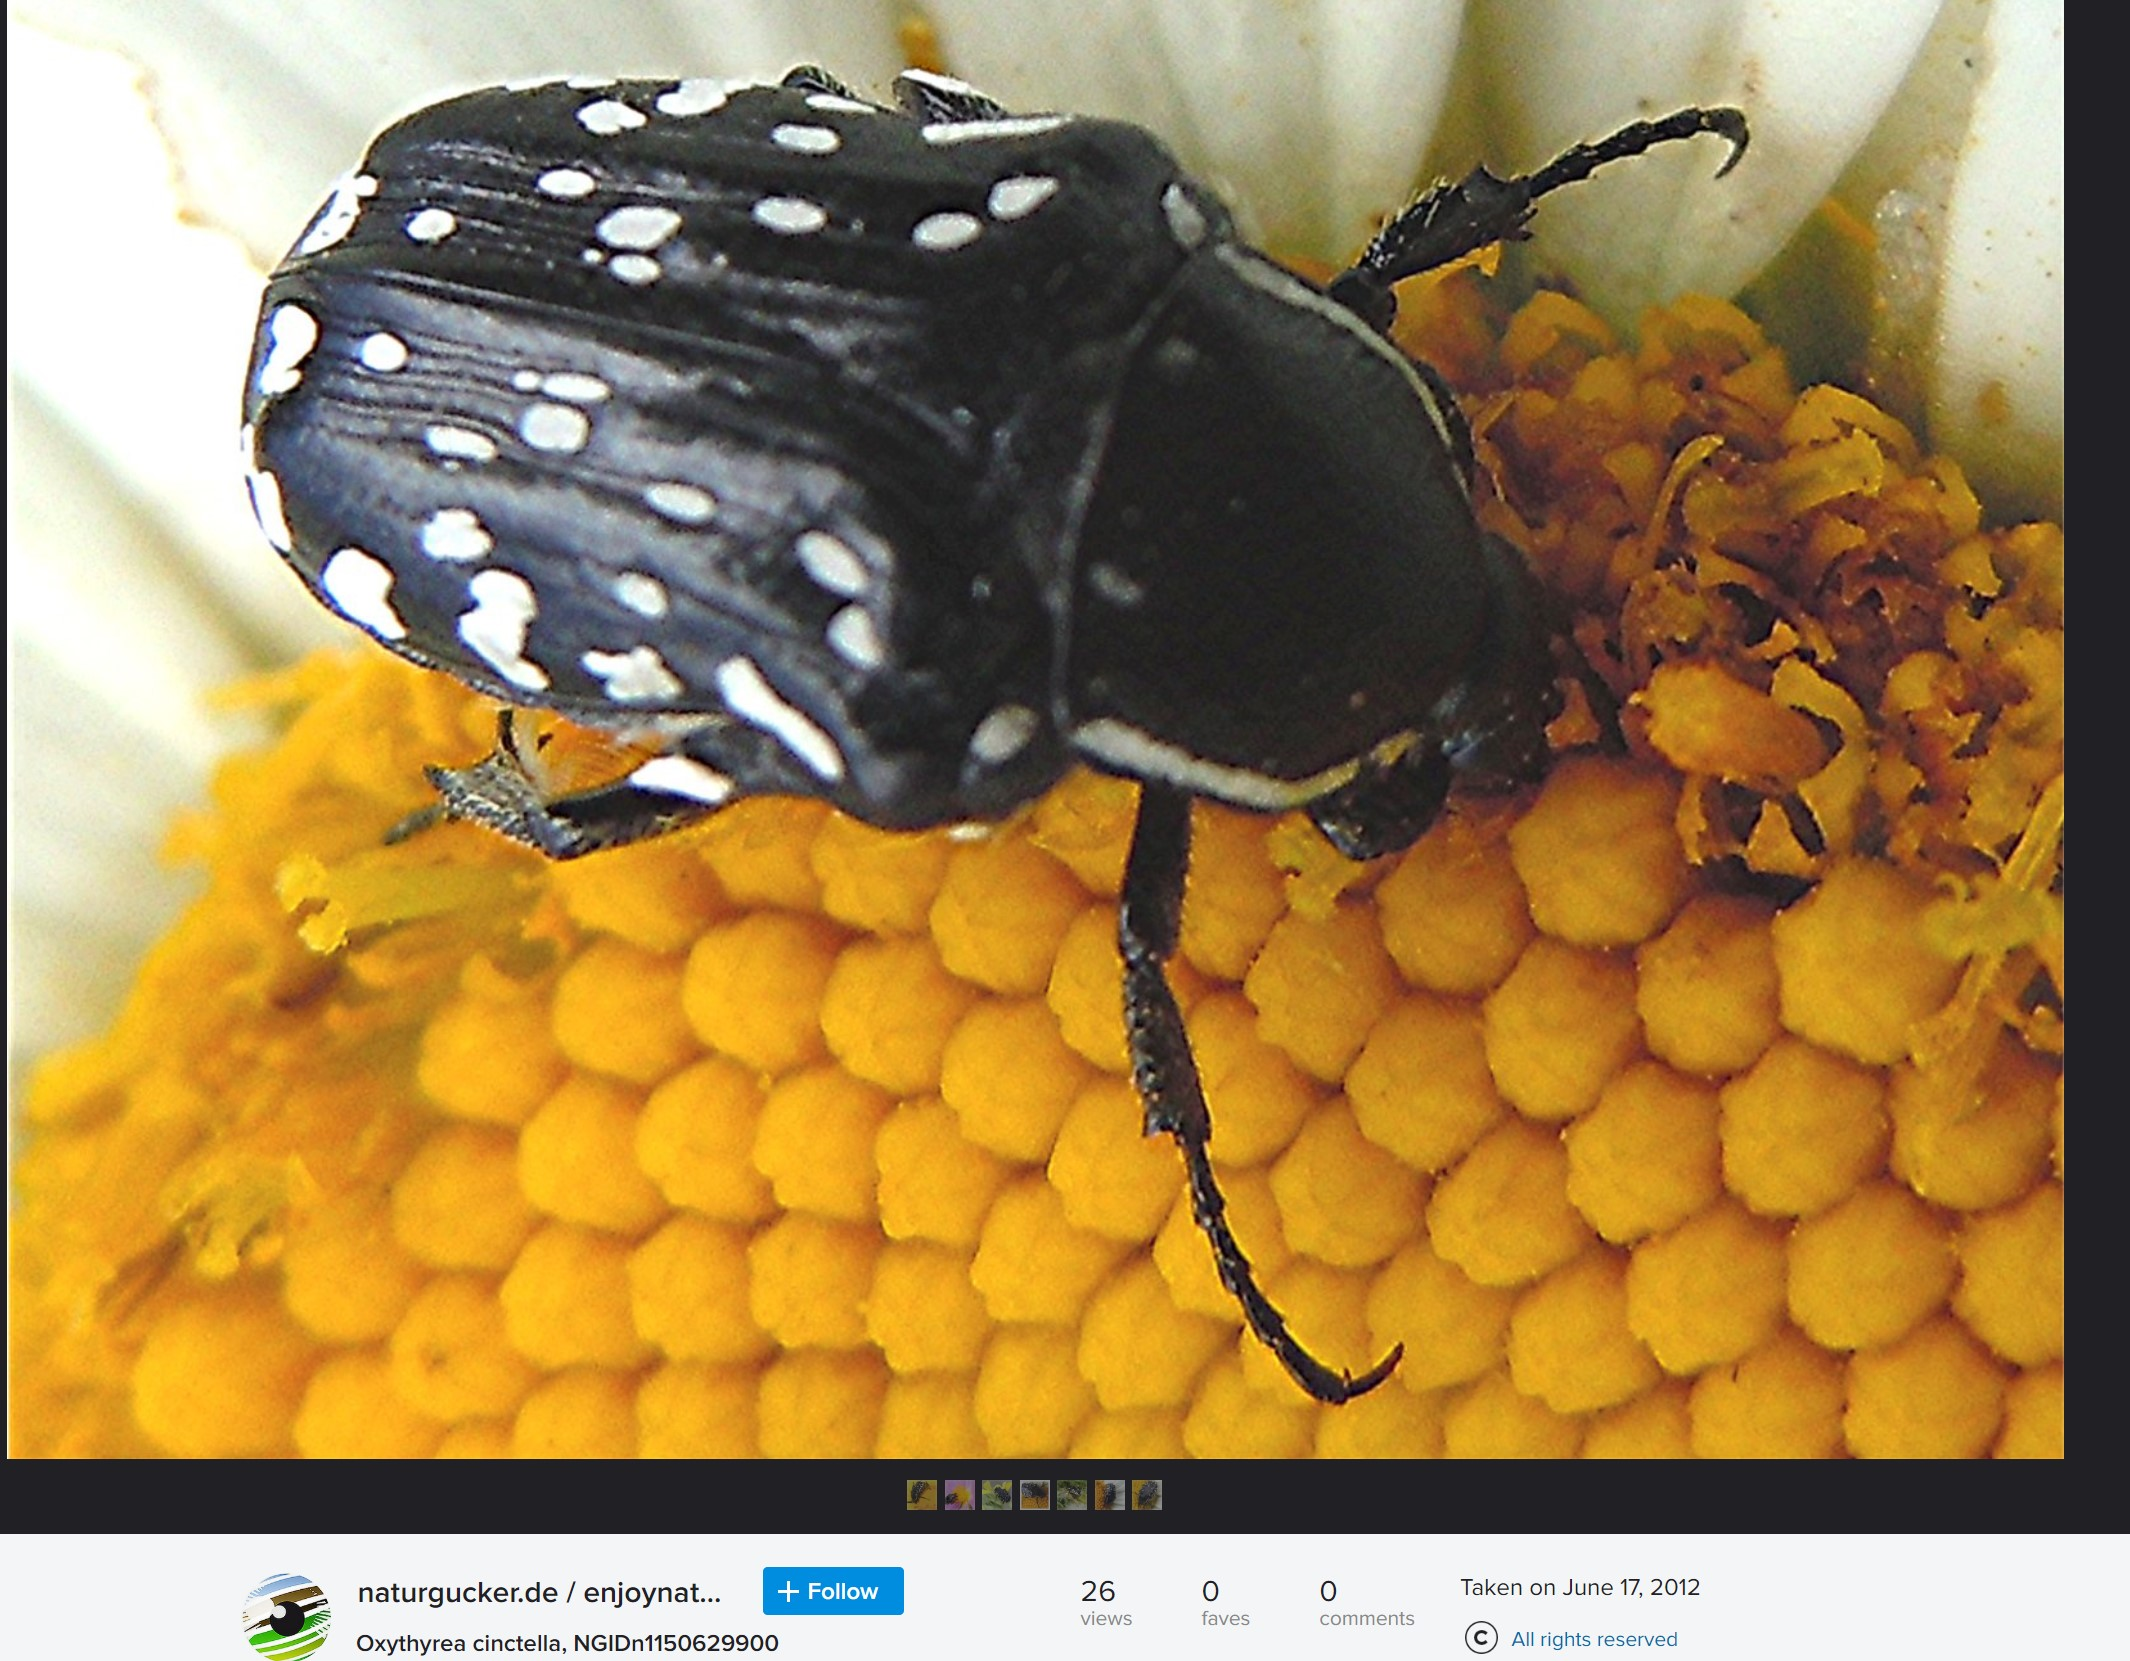Oxythyrea_cinctella: (195, 35, 1878, 1405)
